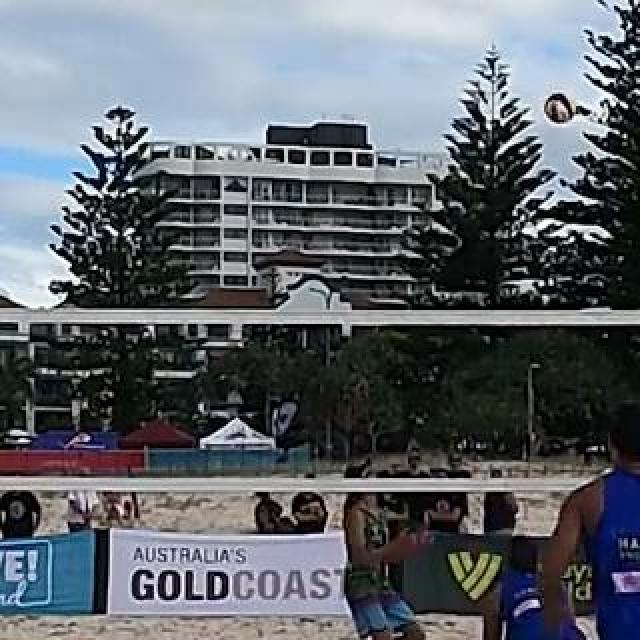volleyball: (545, 94, 575, 124)
